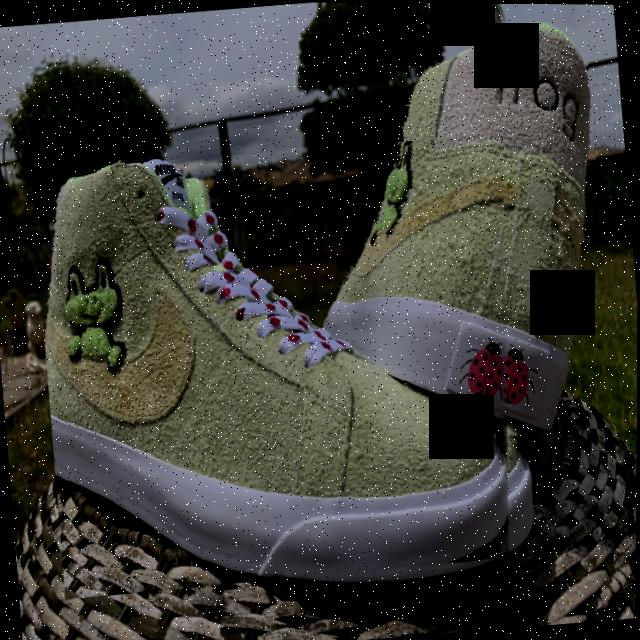shoe: (28, 129, 541, 602), (338, 17, 620, 447)
